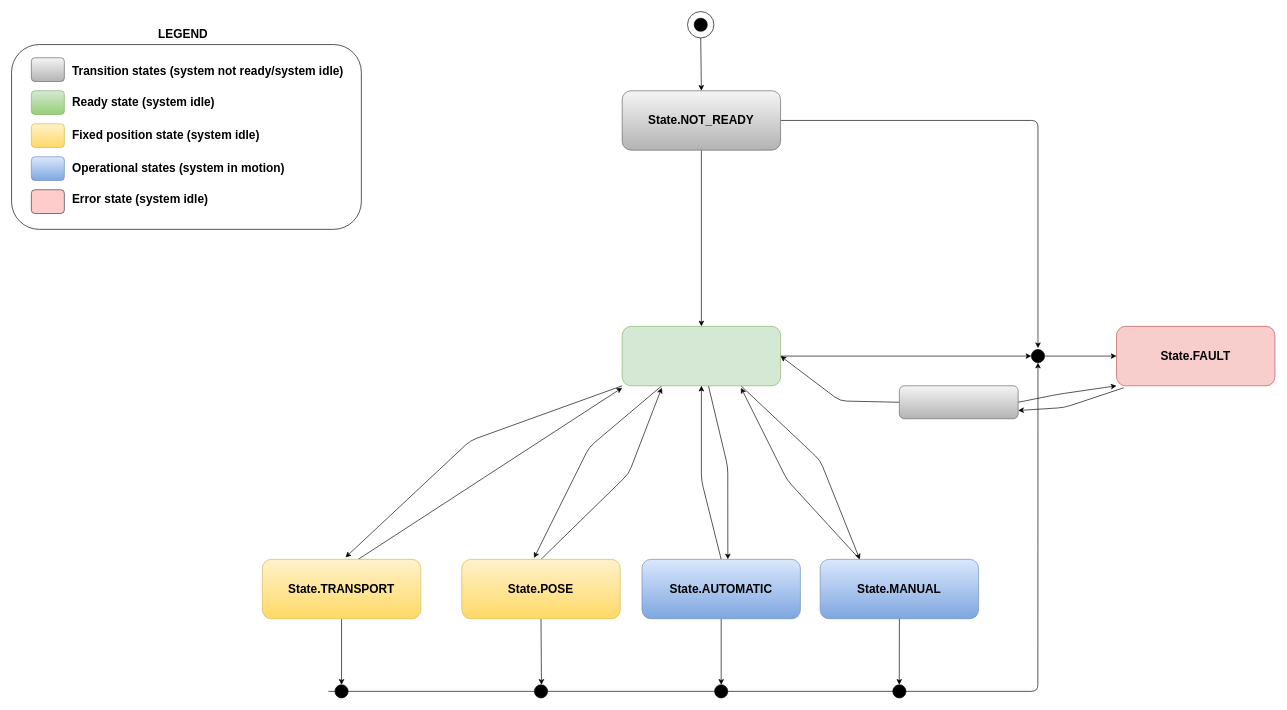
The diagram is 1287 pixels wide and 710 high, and some of its shapes have lost their labels. Each missing label, with the centre of its shape:
"State.fault_quit" goes at point 958,402.
"State.R EADY" goes at point 701,356.
